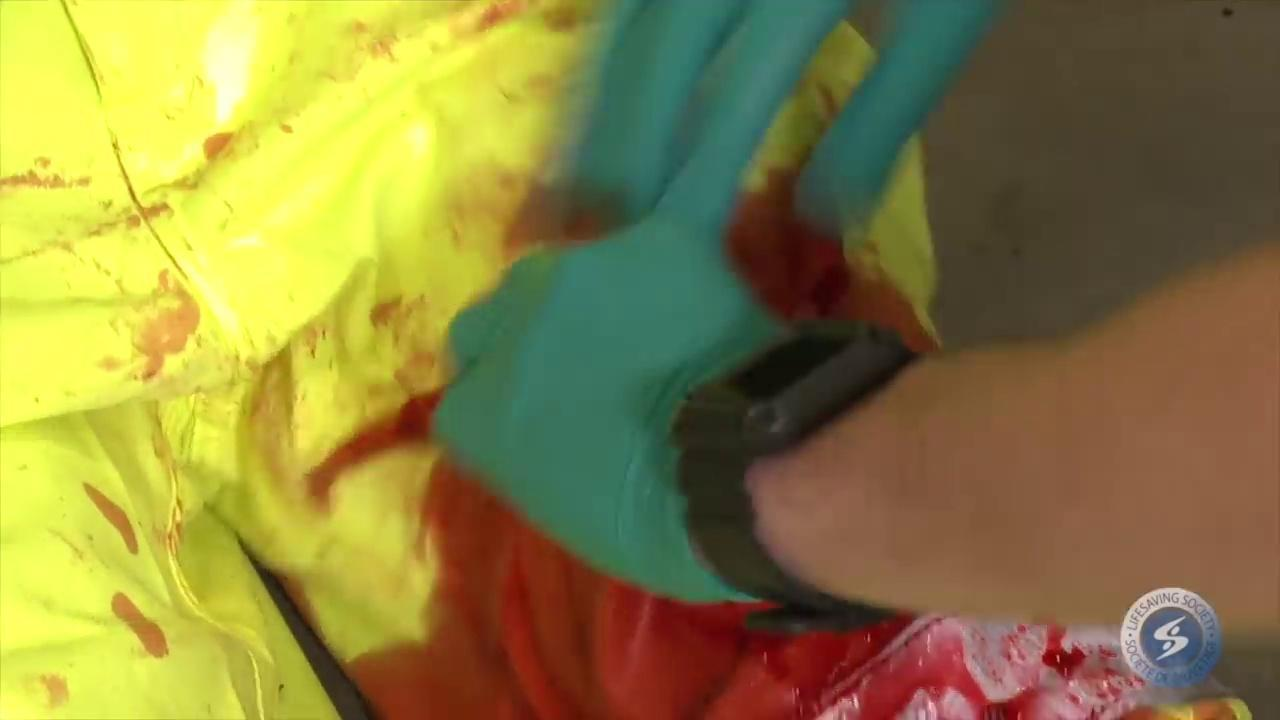Fire: (0, 2, 1148, 718), (723, 20, 937, 348)
